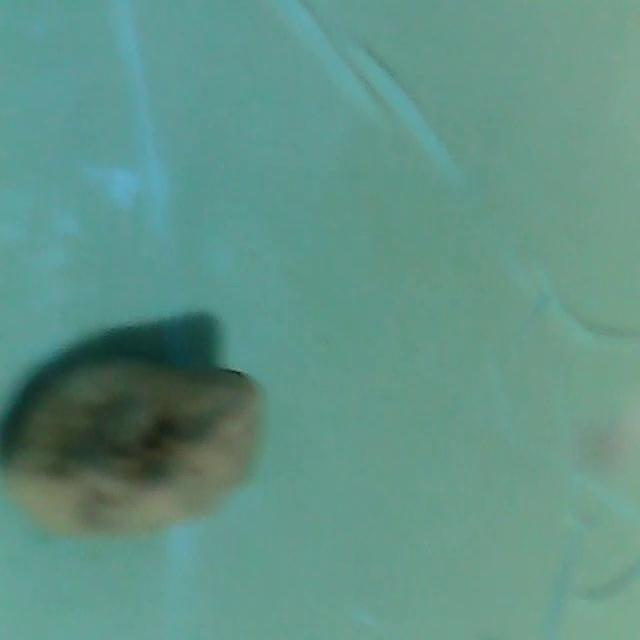rock: (3, 348, 270, 535)
